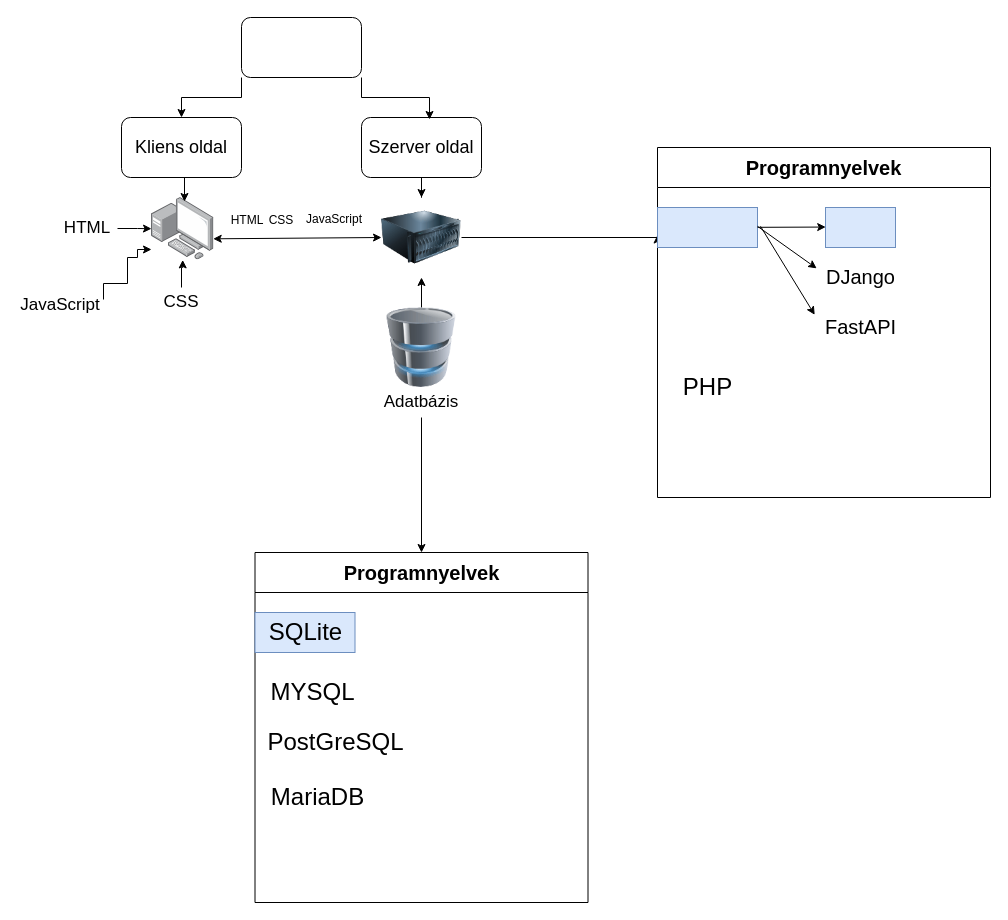
Image size: 1008x920. Some labels were removed from this diagram. Each missing label, with the centre of its shape:
"Flask" goes at pixel 860 227.
"Python" goes at pixel 707 227.
"Webfejlesztés" goes at pixel 301 47.
